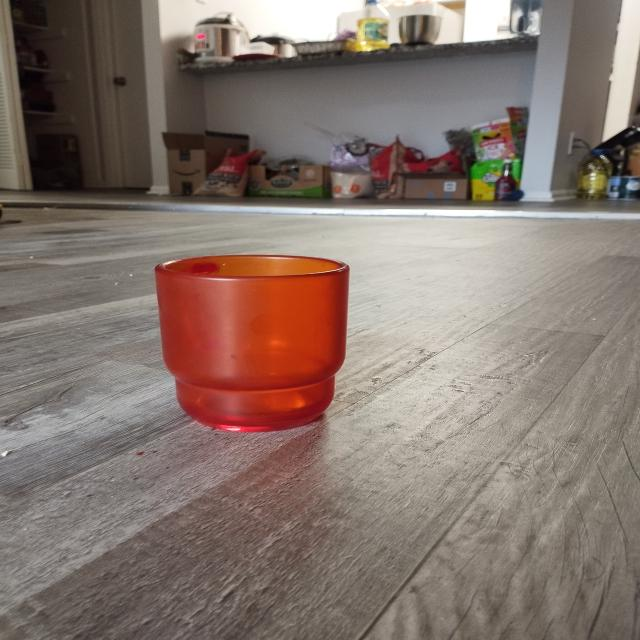Cup: (109, 231, 428, 453)
